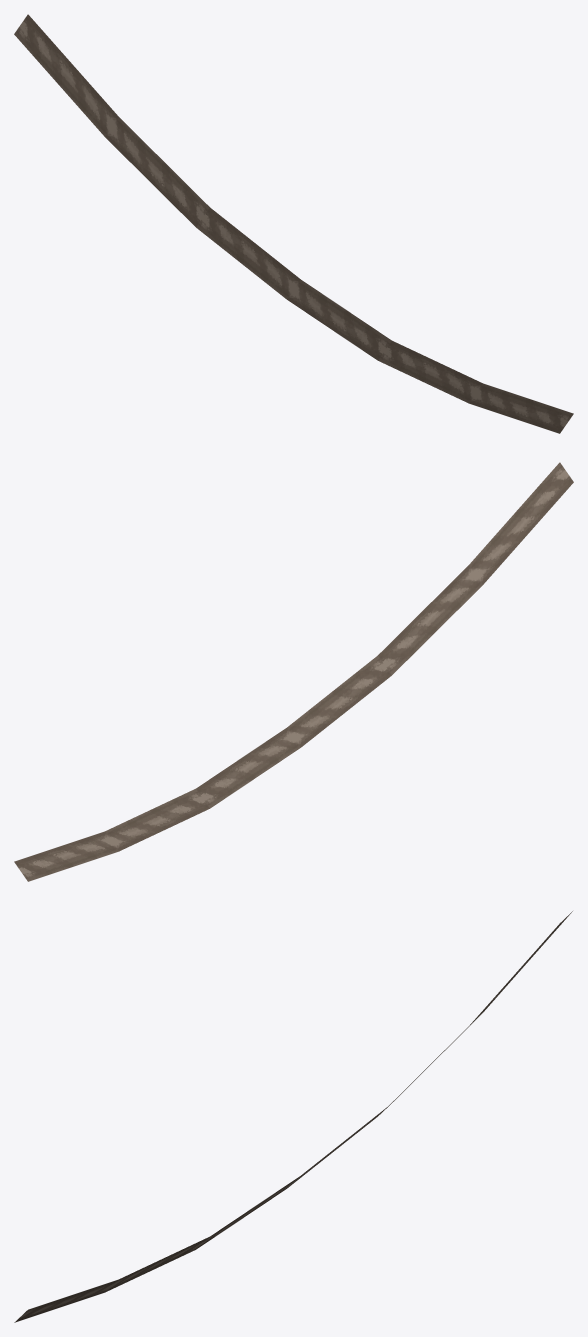
The model's file is PRP_RopeHangingB.FBX.
3 views of the same model, one above another, from view 1: azimuth 30°, elevation 25°; view 2: azimuth 150°, elevation 25°; view 3: azimuth 330°, elevation 25° (orthographic).
Parts seen in each view (by area): view 1: PRP_RopeHangingB; view 2: PRP_RopeHangingB; view 3: PRP_RopeHangingB.
Part boxes in pixels (left/top/right/bottom): PRP_RopeHangingB: left=14, top=14, right=573, bottom=433; PRP_RopeHangingB: left=14, top=462, right=573, bottom=881; PRP_RopeHangingB: left=14, top=911, right=572, bottom=1322.
Bounding box in the file's own units: 5.95 × 33.3 × 400.
Materials: 1 (1 with a texture image).
